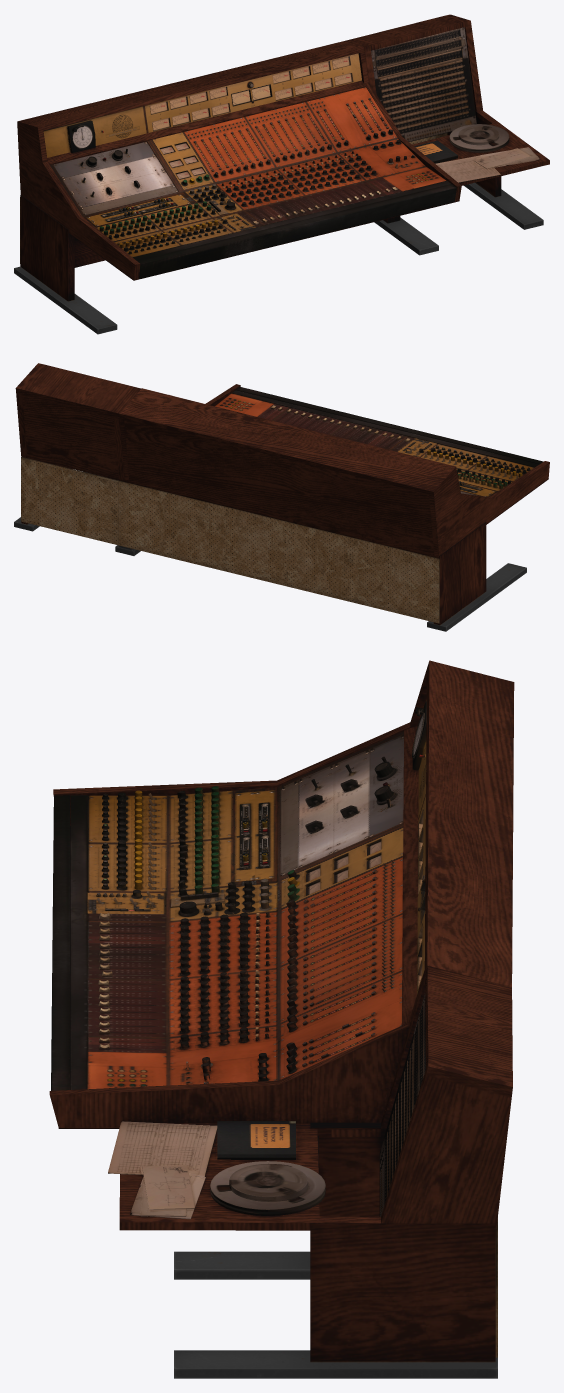
File: lespaul_v015_packed_export.fbx
3 views of the same model, one above another, from view 1: azimuth 30°, elevation 25°; view 2: azimuth 150°, elevation 25°; view 3: azimuth 270°, elevation 25° (orthographic). The views are drawn at different scales.
Visible parts, largest first — view 1: les_paul_console; view 2: les_paul_console; view 3: les_paul_console.
Part boxes in pixels (box(x1,y1,x2,y2)): les_paul_console: box(14, 14, 549, 334); les_paul_console: box(14, 363, 549, 631); les_paul_console: box(49, 660, 514, 1378).
Bounding box in the file's own units: 767 × 260 × 357.
Materials: 8 (8 with a texture image).
